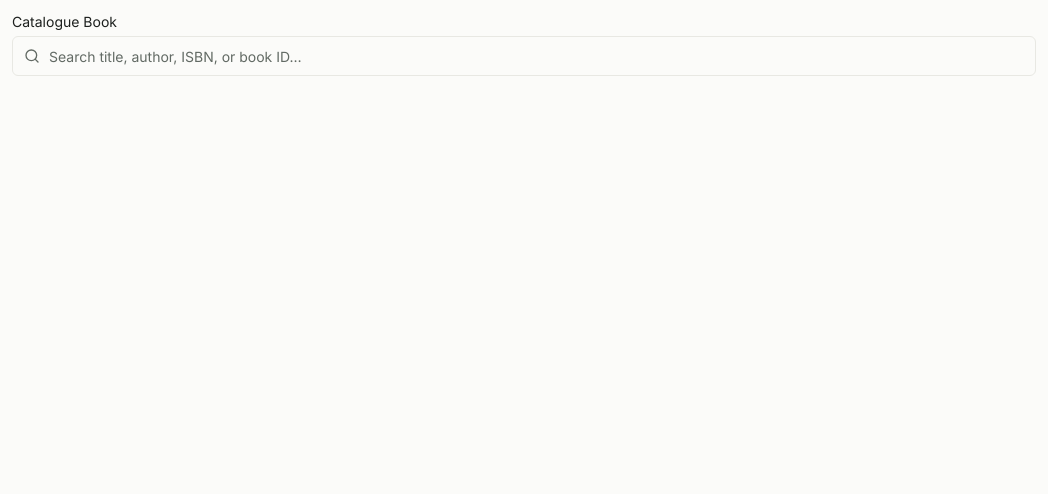
it: CatalogueSelector › loads recent catalogue books and displays cover, ISBN, PDF status, and file metadata
Focus the field named "Catalogue Book" at coordinates (524, 56), box [12, 36, 1036, 76]
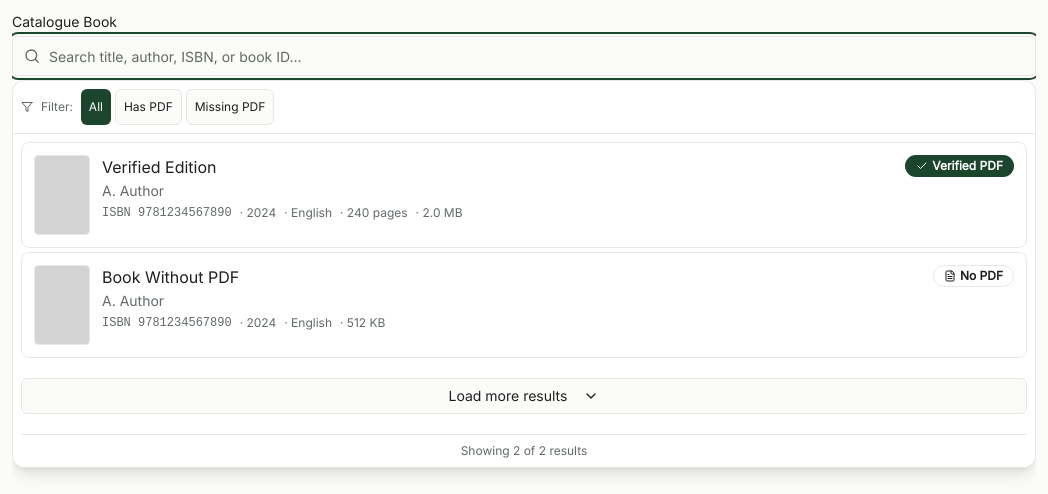
Check: the option with aria-label "Verified Edition by A. Author, PDF available" is shown, box [21, 142, 1027, 248]
Check: the text "Verified PDF" is shown, box [905, 155, 1014, 177]
Check: the text "No PDF" is shown, box [933, 265, 1014, 287]
